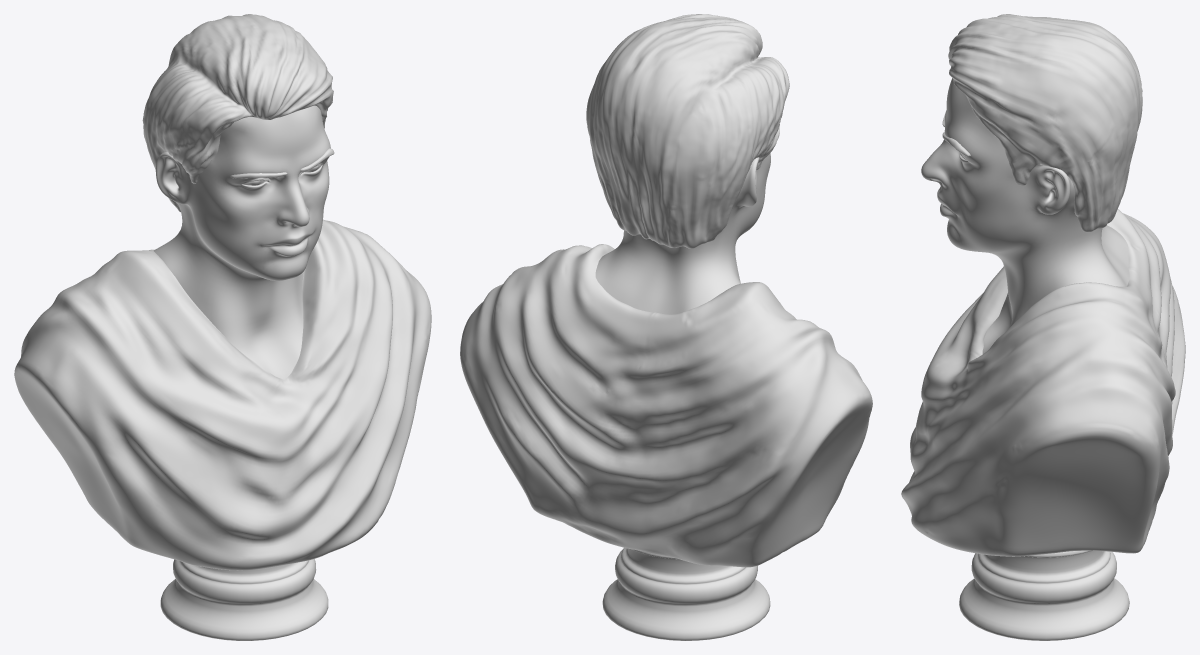
The model's file is male-head-3.glb.
3 views of the same model, side by side, from view 1: azimuth 30°, elevation 25°; view 2: azimuth 150°, elevation 25°; view 3: azimuth 270°, elevation 25° (orthographic).
Visible parts, largest first — view 1: node_id46; view 2: node_id46; view 3: node_id46.
Part boxes in pixels (left/top/right/bottom): node_id46: left=14, top=14, right=431, bottom=640; node_id46: left=460, top=14, right=872, bottom=640; node_id46: left=901, top=14, right=1185, bottom=640.
Size of the model in its own units: 0.2889 by 0.4171 by 0.1843.
1 material, 1 textured.
